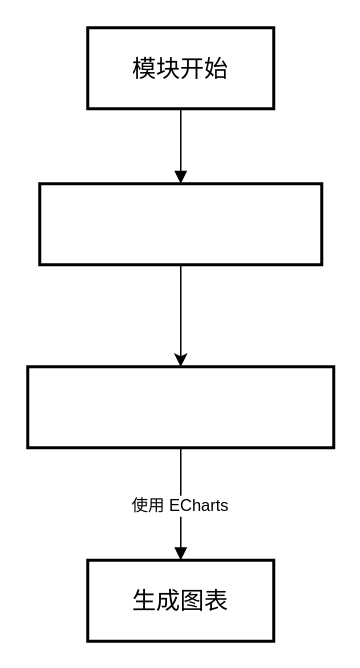
The diagram is 360 pixels wide and 668 high, and some of its shapes have lost their labels. The centre of each missing label's shape, as x and y in pixels:
"后端返回json数据" belongs at point 180,406.
"生成健康数据图表" belongs at point 180,224.
